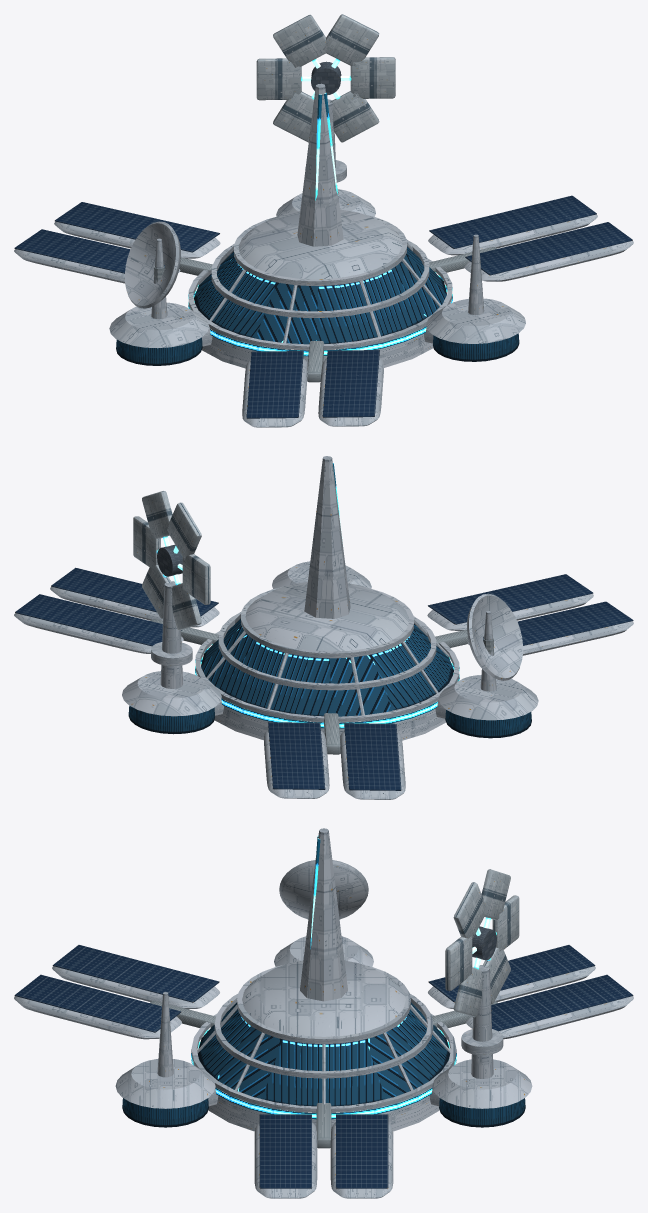
Rendered from alliance_research_outpost.glb.
The picture shows the model from 3 angles, top to bottom: view 1: azimuth 30°, elevation 25°; view 2: azimuth 150°, elevation 25°; view 3: azimuth 270°, elevation 25°; orthographic projection. The views are drawn at different scales.
Parts seen in each view (by area): view 1: alliance_research_outpost_lod_source; view 2: alliance_research_outpost_lod_source; view 3: alliance_research_outpost_lod_source.
Part boxes in pixels (x1,y1,x2,y2): alliance_research_outpost_lod_source: [14, 14, 633, 427]; alliance_research_outpost_lod_source: [14, 456, 633, 799]; alliance_research_outpost_lod_source: [14, 828, 633, 1198].
Size of the model in its own units: 7.37 by 3.37 by 7.59.
1 material, 1 textured.
